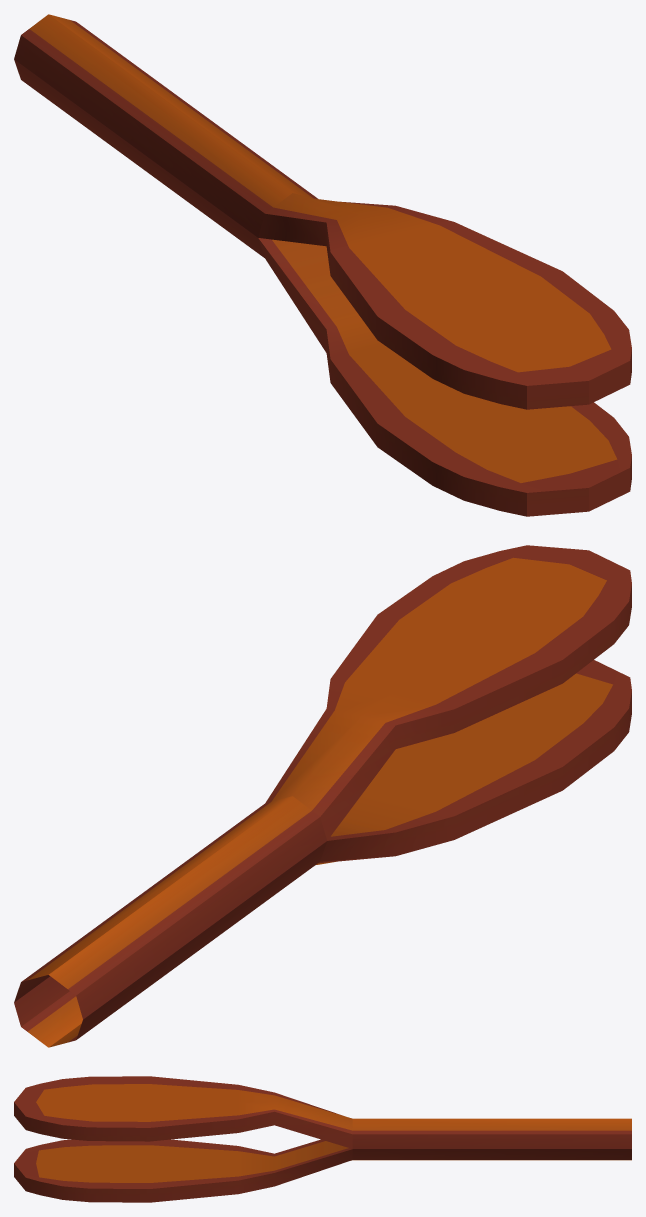
Rendered from SawHolder.fbx.
The picture shows the model from 3 angles, top to bottom: view 1: azimuth 30°, elevation 25°; view 2: azimuth 150°, elevation 25°; view 3: azimuth 270°, elevation 25°; orthographic projection. The views are drawn at different scales.
Parts seen in each view (by area): view 1: SawHolder; view 2: SawHolder; view 3: SawHolder.
Part boxes in pixels (<box>): SawHolder: <box>14,14,631,516</box>; SawHolder: <box>14,545,631,1047</box>; SawHolder: <box>14,1076,631,1202</box>.
Bounding box in the file's own units: 189 × 128 × 957.
